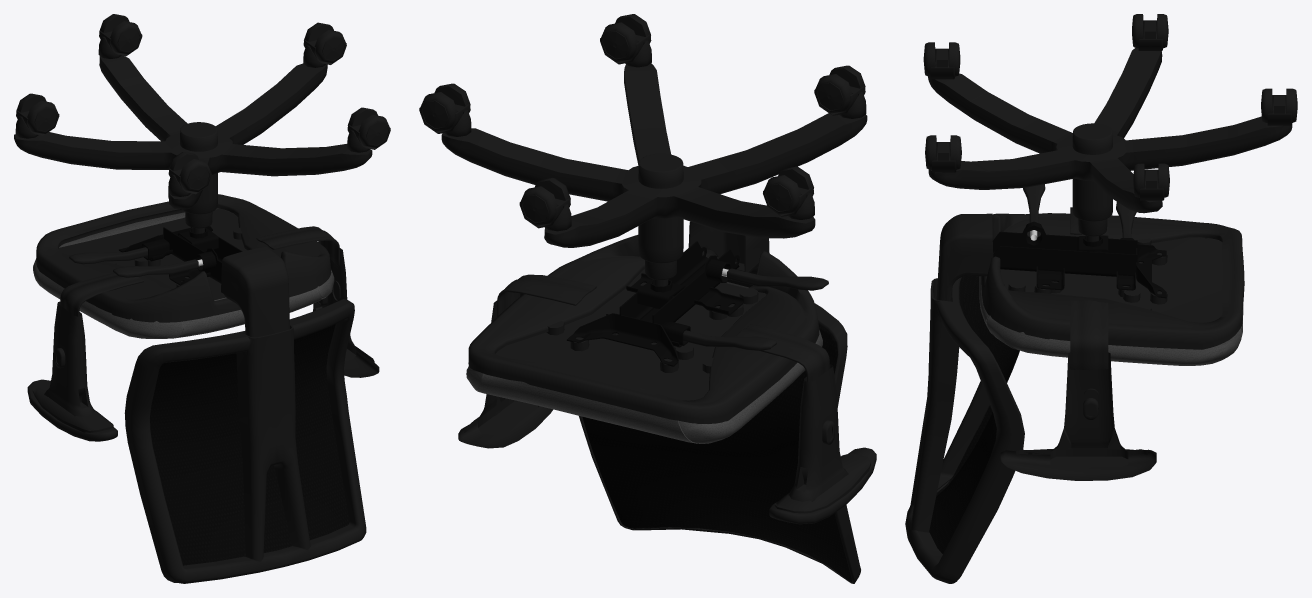
The model's file is CadeiraGiratória.fbx.
3 renders of one model, left to right at view 1: azimuth 30°, elevation 25°; view 2: azimuth 150°, elevation 25°; view 3: azimuth 270°, elevation 25°, orthographic. The views are drawn at different scales.
Parts seen in each view (by area): view 1: CadeiraGiratória; view 2: CadeiraGiratória; view 3: CadeiraGiratória.
Boxes of the visible parts, x1,y1,x2,y2 form: CadeiraGiratória: [14, 14, 390, 583]; CadeiraGiratória: [419, 14, 876, 583]; CadeiraGiratória: [905, 14, 1297, 583].
Bounding box in the file's own units: 0.7036 × 0.8773 × 0.6897.
Materials: 5 (2 with a texture image).
